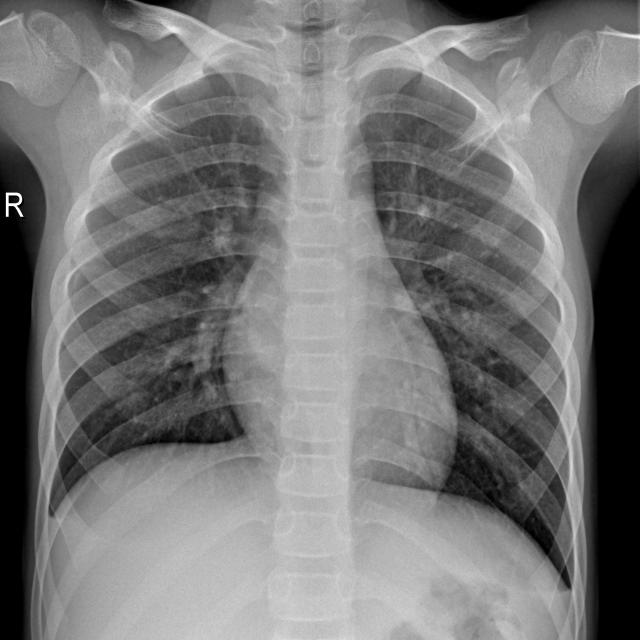no-pneumonia: (357, 47, 582, 586), (41, 75, 282, 513)
